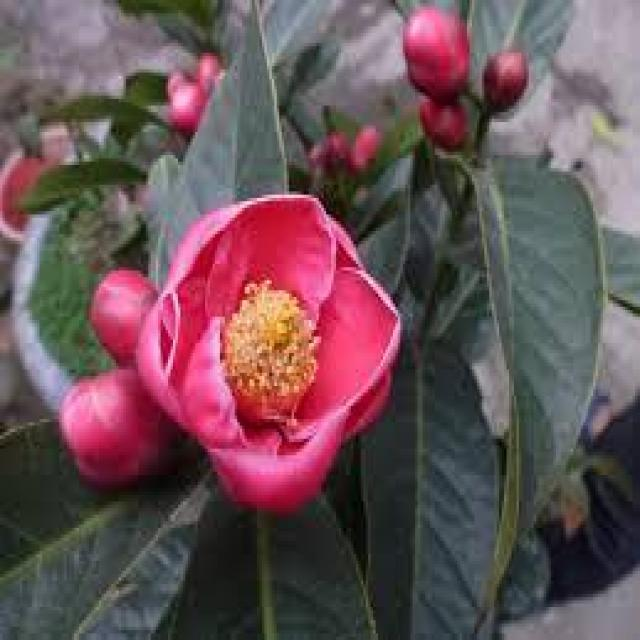organic waste: (150, 203, 416, 493)
